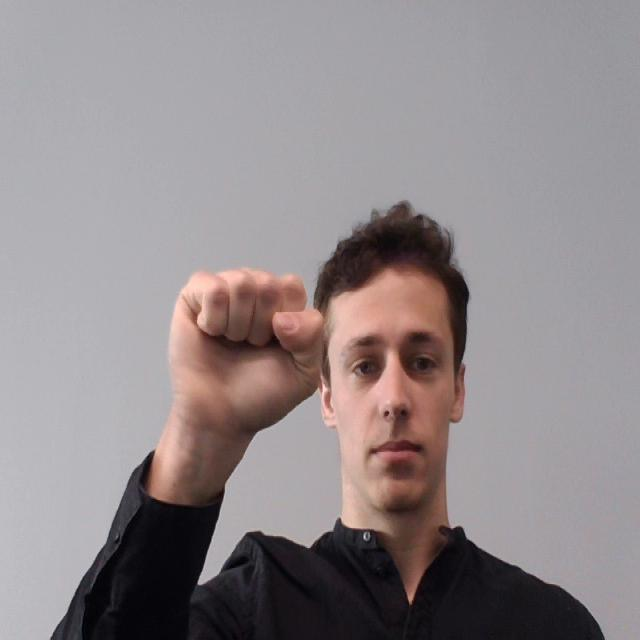stop: (156, 256, 332, 460)
